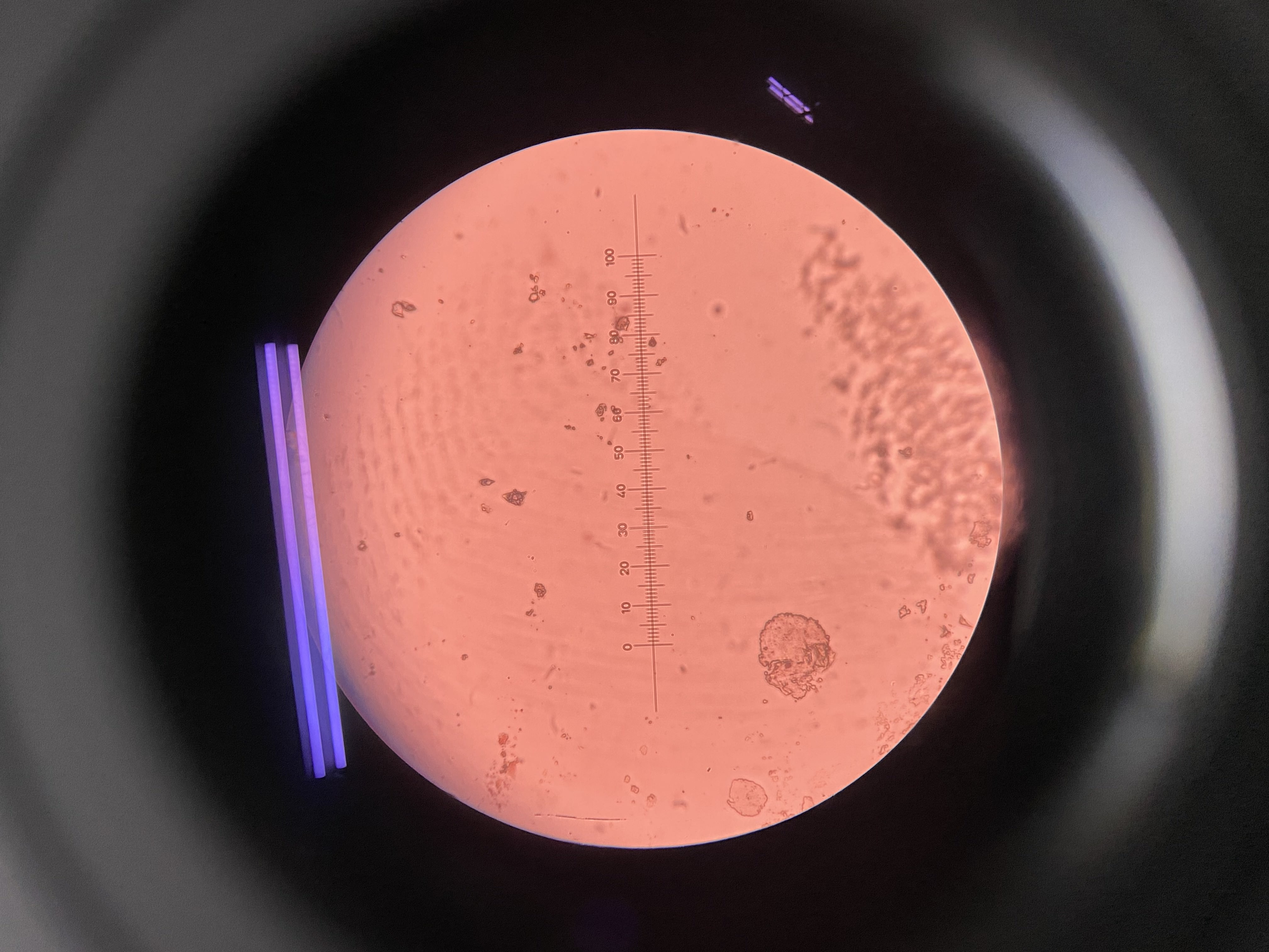microplastic: (795, 225, 1034, 574), (759, 612, 838, 704), (483, 726, 522, 808), (724, 775, 769, 817), (968, 517, 1003, 549), (522, 275, 551, 306), (496, 488, 532, 510), (389, 297, 420, 316), (676, 212, 694, 236), (710, 302, 726, 321), (476, 474, 497, 488), (609, 332, 626, 348), (535, 582, 551, 597), (593, 402, 609, 416), (655, 354, 667, 368), (644, 794, 659, 805), (482, 500, 492, 515), (616, 317, 632, 326), (645, 341, 661, 348), (640, 745, 649, 755)
